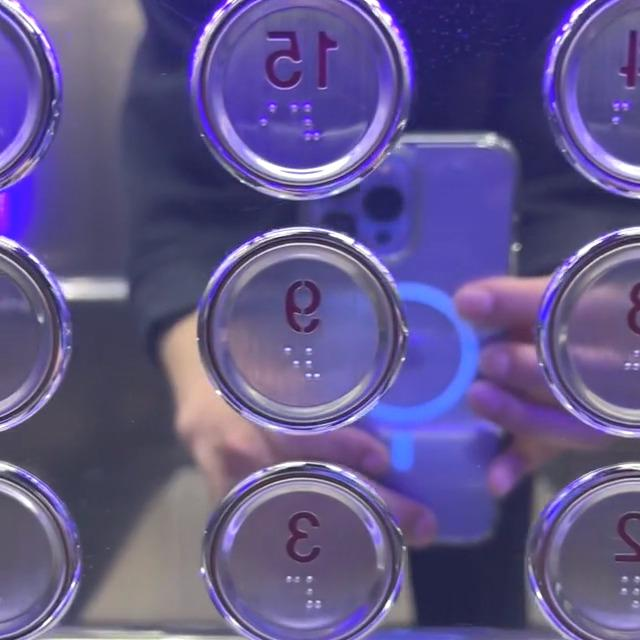button: (194, 235, 407, 426), (200, 458, 400, 638), (205, 0, 362, 185)
